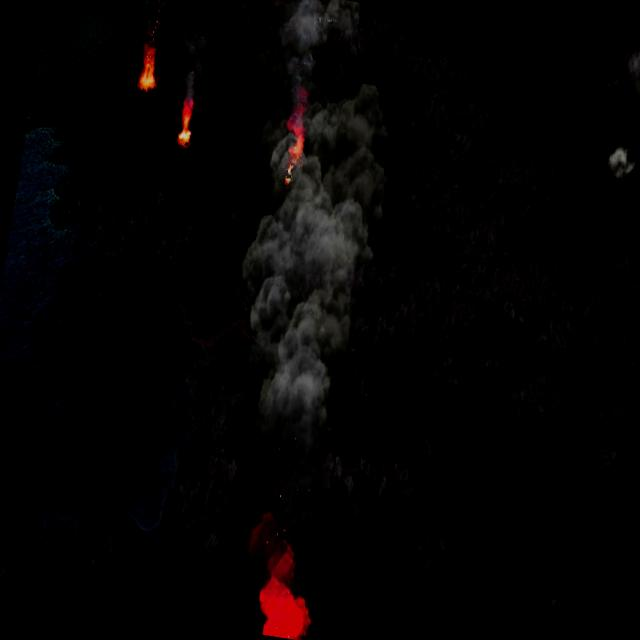fire: (280, 88, 313, 190), (603, 140, 639, 182), (136, 43, 163, 92), (174, 99, 197, 149)
smoke: (171, 0, 416, 636), (172, 28, 211, 102), (610, 43, 640, 111), (140, 0, 167, 50)
